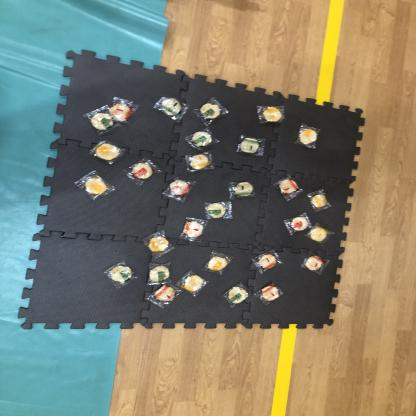green_setoshio: (156, 95, 189, 121), (195, 97, 228, 123), (186, 127, 218, 152), (106, 262, 136, 287), (221, 282, 251, 307), (85, 110, 116, 132), (236, 134, 266, 156), (228, 180, 258, 200), (206, 199, 233, 221), (146, 262, 173, 284)
red_setoshio: (178, 216, 208, 243), (165, 176, 196, 202), (127, 158, 159, 183), (256, 281, 285, 305), (151, 283, 181, 306), (251, 250, 282, 272), (277, 175, 305, 199), (301, 252, 331, 274), (113, 98, 138, 123), (285, 212, 312, 233)
yellow_setoshio: (74, 171, 115, 201), (254, 102, 290, 126), (142, 231, 174, 257), (90, 139, 126, 162), (180, 270, 209, 296), (202, 250, 232, 275), (180, 151, 214, 173), (308, 187, 334, 211), (309, 225, 336, 245), (297, 126, 321, 148)
